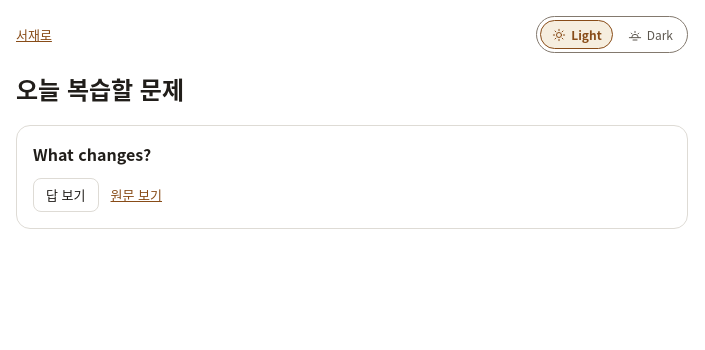
reuses the same grade identity if the reply was lost in transport
The width and height of the screenshot is (705, 350).
Click the button "답 보기" at coordinates (66, 195), box [33,178,98,212]
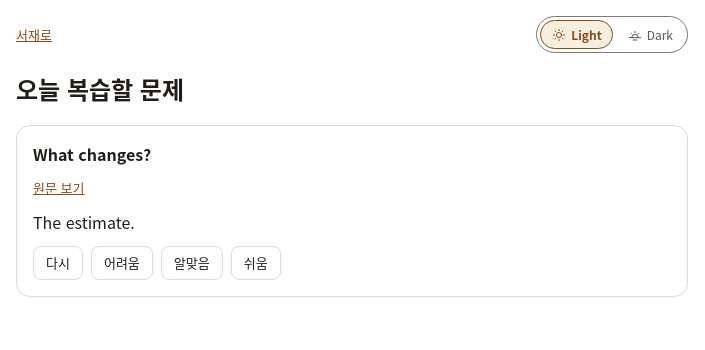
Click the button "알맞음" at coordinates (192, 263), box [161,246,223,280]
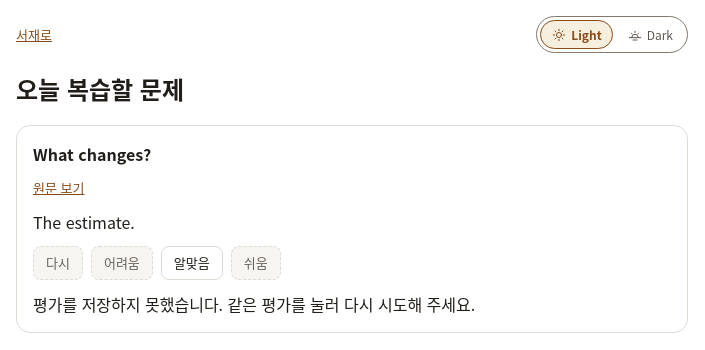
Now the message "평가를 저장하지 못했습니다. 같은 평가를 눌러 다시 시도해 주세요." is shown, box [33,292,475,316]
Now the button "쉬움" is disabled, box [231,246,281,280]
Click the button "알맞음" at coordinates (192, 263), box [161,246,223,280]
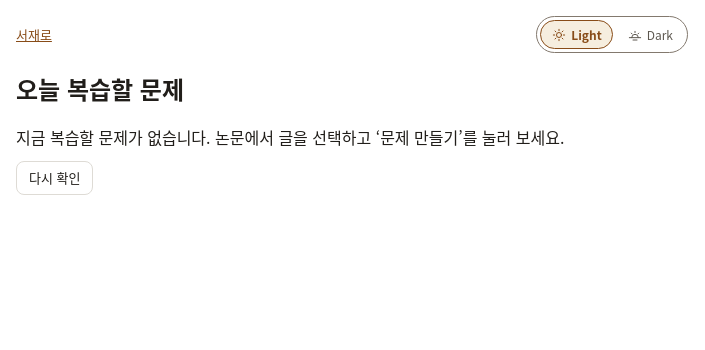
Now the text "지금 복습할 문제가 없습니다. 논문에서 글을 선택하고 ‘문제 만들기’를 눌러 보세요." is shown, box [16,125,564,149]
